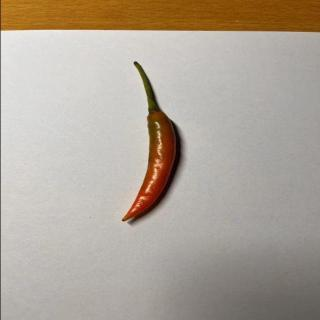Cabai Merah: (121, 61, 179, 223)
